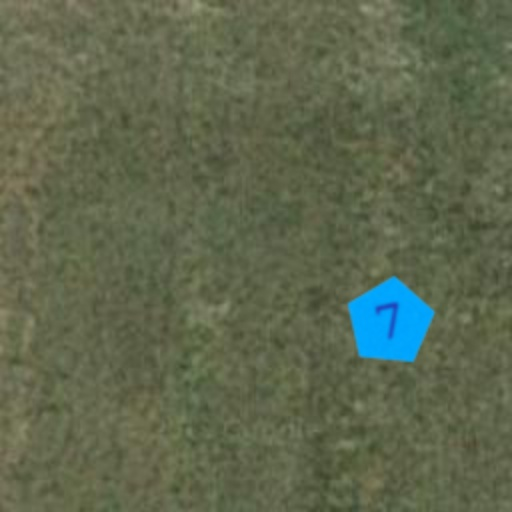pentagon: (334, 266, 446, 378)
